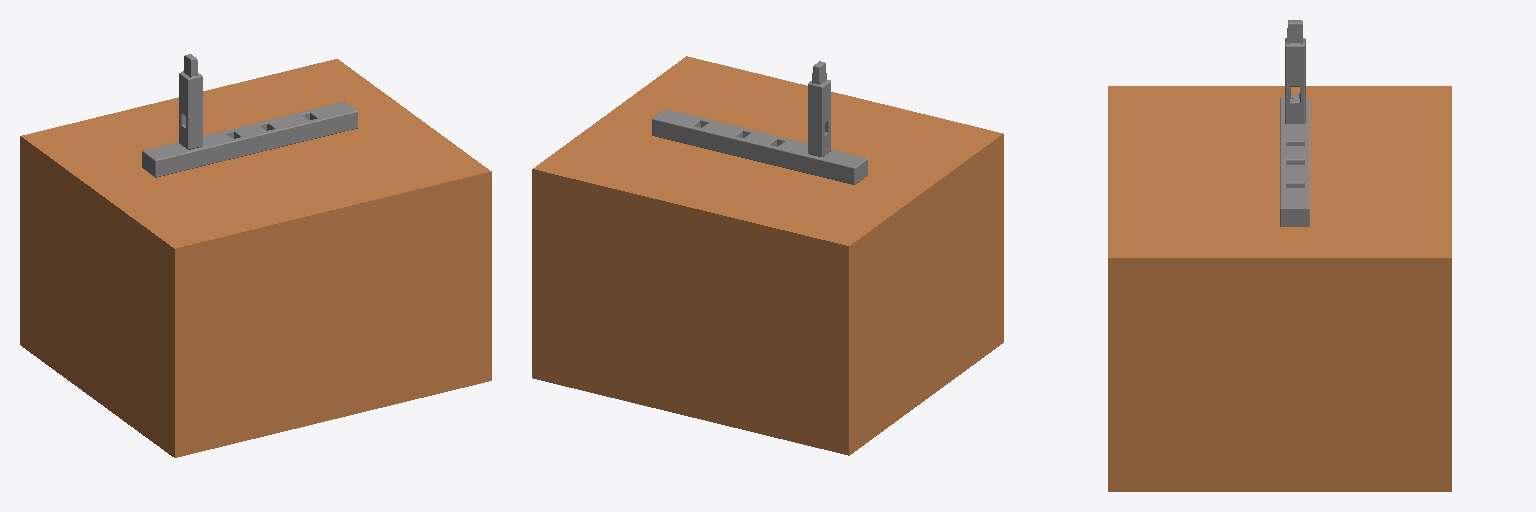
robot.urdf — table_beam_2x_0_scene_0016:
<?xml version="1.0"?>
<robot name="table_beam_2x_0_scene_0016">
  <link name="box">
    <visual>
      <material name="wood"><color rgba="0.82 0.56 0.35 1.0"/></material>
      <origin xyz="0 0 0"/>
      <geometry><box size="0.475 0.4 0.3"/></geometry>
    </visual>
    <collision>
      <origin xyz="0 0 0"/>
      <geometry><box size="0.475 0.4 0.3"/></geometry>
    </collision>
    <inertial>
      <mass value="500"/>
      <friction value="1.0"/>
      <inertia ixx="1000.0" ixy="0.0" ixz="0.0" iyy="1000.0" iyz="0.0" izz="1000.0"/>
    </inertial>
  </link>
  <link name="part_6_canonical">
    <visual>
      <origin xyz="0 0 0" rpy="0 0 0"/>
      <geometry><mesh filename="../../6/6_canonical.obj" scale="1 1 1"/></geometry>
      <material name="placed_0"><color rgba="0.6 0.6 0.6 1.0"/></material>
    </visual>
    <collision>
      <origin xyz="0 0 0" rpy="0 0 0"/>
      <geometry><mesh filename="../../6/6_canonical.obj" scale="1 1 1"/></geometry>
    </collision>
  </link>
  <joint name="part_6_canonical_joint" type="fixed">
    <parent link="box"/>
    <child link="part_6_canonical"/>
    <origin xyz="0.001633 0.017717 0.162666" rpy="0.000000 0.000000 0.000000"/>
  </joint>
  <link name="part_2_hull_0">
    <visual>
      <origin xyz="0 0 0" rpy="0 0 0"/>
      <geometry><mesh filename="../../2/coacd/decomp_0.obj" scale="1 1 1"/></geometry>
      <material name="placed_1"><color rgba="0.6 0.6 0.6 1.0"/></material>
    </visual>
    <collision>
      <origin xyz="0 0 0" rpy="0 0 0"/>
      <geometry><mesh filename="../../2/coacd/decomp_0.obj" scale="1 1 1"/></geometry>
    </collision>
  </link>
  <joint name="part_2_hull_0_joint" type="fixed">
    <parent link="box"/>
    <child link="part_2_hull_0"/>
    <origin xyz="-0.087294 0.017717 0.225384" rpy="0.000000 -1.570796 0.000000"/>
  </joint>
  <link name="part_2_hull_1">
    <visual>
      <origin xyz="0 0 0" rpy="0 0 0"/>
      <geometry><mesh filename="../../2/coacd/decomp_1.obj" scale="1 1 1"/></geometry>
      <material name="placed_2"><color rgba="0.6 0.6 0.6 1.0"/></material>
    </visual>
    <collision>
      <origin xyz="0 0 0" rpy="0 0 0"/>
      <geometry><mesh filename="../../2/coacd/decomp_1.obj" scale="1 1 1"/></geometry>
    </collision>
  </link>
  <joint name="part_2_hull_1_joint" type="fixed">
    <parent link="box"/>
    <child link="part_2_hull_1"/>
    <origin xyz="-0.087294 0.017717 0.225384" rpy="0.000000 -1.570796 0.000000"/>
  </joint>
  <link name="part_2_hull_2">
    <visual>
      <origin xyz="0 0 0" rpy="0 0 0"/>
      <geometry><mesh filename="../../2/coacd/decomp_10.obj" scale="1 1 1"/></geometry>
      <material name="placed_3"><color rgba="0.6 0.6 0.6 1.0"/></material>
    </visual>
    <collision>
      <origin xyz="0 0 0" rpy="0 0 0"/>
      <geometry><mesh filename="../../2/coacd/decomp_10.obj" scale="1 1 1"/></geometry>
    </collision>
  </link>
  <joint name="part_2_hull_2_joint" type="fixed">
    <parent link="box"/>
    <child link="part_2_hull_2"/>
    <origin xyz="-0.087294 0.017717 0.225384" rpy="0.000000 -1.570796 0.000000"/>
  </joint>
  <link name="part_2_hull_3">
    <visual>
      <origin xyz="0 0 0" rpy="0 0 0"/>
      <geometry><mesh filename="../../2/coacd/decomp_11.obj" scale="1 1 1"/></geometry>
      <material name="placed_4"><color rgba="0.6 0.6 0.6 1.0"/></material>
    </visual>
    <collision>
      <origin xyz="0 0 0" rpy="0 0 0"/>
      <geometry><mesh filename="../../2/coacd/decomp_11.obj" scale="1 1 1"/></geometry>
    </collision>
  </link>
  <joint name="part_2_hull_3_joint" type="fixed">
    <parent link="box"/>
    <child link="part_2_hull_3"/>
    <origin xyz="-0.087294 0.017717 0.225384" rpy="0.000000 -1.570796 0.000000"/>
  </joint>
  <link name="part_2_hull_4">
    <visual>
      <origin xyz="0 0 0" rpy="0 0 0"/>
      <geometry><mesh filename="../../2/coacd/decomp_12.obj" scale="1 1 1"/></geometry>
      <material name="placed_5"><color rgba="0.6 0.6 0.6 1.0"/></material>
    </visual>
    <collision>
      <origin xyz="0 0 0" rpy="0 0 0"/>
      <geometry><mesh filename="../../2/coacd/decomp_12.obj" scale="1 1 1"/></geometry>
    </collision>
  </link>
  <joint name="part_2_hull_4_joint" type="fixed">
    <parent link="box"/>
    <child link="part_2_hull_4"/>
    <origin xyz="-0.087294 0.017717 0.225384" rpy="0.000000 -1.570796 0.000000"/>
  </joint>
  <link name="part_2_hull_5">
    <visual>
      <origin xyz="0 0 0" rpy="0 0 0"/>
      <geometry><mesh filename="../../2/coacd/decomp_13.obj" scale="1 1 1"/></geometry>
      <material name="placed_6"><color rgba="0.6 0.6 0.6 1.0"/></material>
    </visual>
    <collision>
      <origin xyz="0 0 0" rpy="0 0 0"/>
      <geometry><mesh filename="../../2/coacd/decomp_13.obj" scale="1 1 1"/></geometry>
    </collision>
  </link>
  <joint name="part_2_hull_5_joint" type="fixed">
    <parent link="box"/>
    <child link="part_2_hull_5"/>
    <origin xyz="-0.087294 0.017717 0.225384" rpy="0.000000 -1.570796 0.000000"/>
  </joint>
  <link name="part_2_hull_6">
    <visual>
      <origin xyz="0 0 0" rpy="0 0 0"/>
      <geometry><mesh filename="../../2/coacd/decomp_14.obj" scale="1 1 1"/></geometry>
      <material name="placed_7"><color rgba="0.6 0.6 0.6 1.0"/></material>
    </visual>
    <collision>
      <origin xyz="0 0 0" rpy="0 0 0"/>
      <geometry><mesh filename="../../2/coacd/decomp_14.obj" scale="1 1 1"/></geometry>
    </collision>
  </link>
  <joint name="part_2_hull_6_joint" type="fixed">
    <parent link="box"/>
    <child link="part_2_hull_6"/>
    <origin xyz="-0.087294 0.017717 0.225384" rpy="0.000000 -1.570796 0.000000"/>
  </joint>
  <link name="part_2_hull_7">
    <visual>
      <origin xyz="0 0 0" rpy="0 0 0"/>
      <geometry><mesh filename="../../2/coacd/decomp_15.obj" scale="1 1 1"/></geometry>
      <material name="placed_8"><color rgba="0.6 0.6 0.6 1.0"/></material>
    </visual>
    <collision>
      <origin xyz="0 0 0" rpy="0 0 0"/>
      <geometry><mesh filename="../../2/coacd/decomp_15.obj" scale="1 1 1"/></geometry>
    </collision>
  </link>
  <joint name="part_2_hull_7_joint" type="fixed">
    <parent link="box"/>
    <child link="part_2_hull_7"/>
    <origin xyz="-0.087294 0.017717 0.225384" rpy="0.000000 -1.570796 0.000000"/>
  </joint>
  <link name="part_2_hull_8">
    <visual>
      <origin xyz="0 0 0" rpy="0 0 0"/>
      <geometry><mesh filename="../../2/coacd/decomp_2.obj" scale="1 1 1"/></geometry>
      <material name="placed_9"><color rgba="0.6 0.6 0.6 1.0"/></material>
    </visual>
    <collision>
      <origin xyz="0 0 0" rpy="0 0 0"/>
      <geometry><mesh filename="../../2/coacd/decomp_2.obj" scale="1 1 1"/></geometry>
    </collision>
  </link>
  <joint name="part_2_hull_8_joint" type="fixed">
    <parent link="box"/>
    <child link="part_2_hull_8"/>
    <origin xyz="-0.087294 0.017717 0.225384" rpy="0.000000 -1.570796 0.000000"/>
  </joint>
  <link name="part_2_hull_9">
    <visual>
      <origin xyz="0 0 0" rpy="0 0 0"/>
      <geometry><mesh filename="../../2/coacd/decomp_3.obj" scale="1 1 1"/></geometry>
      <material name="placed_10"><color rgba="0.6 0.6 0.6 1.0"/></material>
    </visual>
    <collision>
      <origin xyz="0 0 0" rpy="0 0 0"/>
      <geometry><mesh filename="../../2/coacd/decomp_3.obj" scale="1 1 1"/></geometry>
    </collision>
  </link>
  <joint name="part_2_hull_9_joint" type="fixed">
    <parent link="box"/>
    <child link="part_2_hull_9"/>
    <origin xyz="-0.087294 0.017717 0.225384" rpy="0.000000 -1.570796 0.000000"/>
  </joint>
  <link name="part_2_hull_10">
    <visual>
      <origin xyz="0 0 0" rpy="0 0 0"/>
      <geometry><mesh filename="../../2/coacd/decomp_4.obj" scale="1 1 1"/></geometry>
      <material name="placed_11"><color rgba="0.6 0.6 0.6 1.0"/></material>
    </visual>
    <collision>
      <origin xyz="0 0 0" rpy="0 0 0"/>
      <geometry><mesh filename="../../2/coacd/decomp_4.obj" scale="1 1 1"/></geometry>
    </collision>
  </link>
  <joint name="part_2_hull_10_joint" type="fixed">
    <parent link="box"/>
    <child link="part_2_hull_10"/>
    <origin xyz="-0.087294 0.017717 0.225384" rpy="0.000000 -1.570796 0.000000"/>
  </joint>
  <link name="part_2_hull_11">
    <visual>
      <origin xyz="0 0 0" rpy="0 0 0"/>
      <geometry><mesh filename="../../2/coacd/decomp_5.obj" scale="1 1 1"/></geometry>
      <material name="placed_12"><color rgba="0.6 0.6 0.6 1.0"/></material>
    </visual>
    <collision>
      <origin xyz="0 0 0" rpy="0 0 0"/>
      <geometry><mesh filename="../../2/coacd/decomp_5.obj" scale="1 1 1"/></geometry>
    </collision>
  </link>
  <joint name="part_2_hull_11_joint" type="fixed">
    <parent link="box"/>
    <child link="part_2_hull_11"/>
    <origin xyz="-0.087294 0.017717 0.225384" rpy="0.000000 -1.570796 0.000000"/>
  </joint>
  <link name="part_2_hull_12">
    <visual>
      <origin xyz="0 0 0" rpy="0 0 0"/>
      <geometry><mesh filename="../../2/coacd/decomp_6.obj" scale="1 1 1"/></geometry>
      <material name="placed_13"><color rgba="0.6 0.6 0.6 1.0"/></material>
    </visual>
    <collision>
      <origin xyz="0 0 0" rpy="0 0 0"/>
      <geometry><mesh filename="../../2/coacd/decomp_6.obj" scale="1 1 1"/></geometry>
    </collision>
  </link>
  <joint name="part_2_hull_12_joint" type="fixed">
    <parent link="box"/>
    <child link="part_2_hull_12"/>
    <origin xyz="-0.087294 0.017717 0.225384" rpy="0.000000 -1.570796 0.000000"/>
  </joint>
  <link name="part_2_hull_13">
    <visual>
      <origin xyz="0 0 0" rpy="0 0 0"/>
      <geometry><mesh filename="../../2/coacd/decomp_7.obj" scale="1 1 1"/></geometry>
      <material name="placed_14"><color rgba="0.6 0.6 0.6 1.0"/></material>
    </visual>
    <collision>
      <origin xyz="0 0 0" rpy="0 0 0"/>
      <geometry><mesh filename="../../2/coacd/decomp_7.obj" scale="1 1 1"/></geometry>
    </collision>
  </link>
  <joint name="part_2_hull_13_joint" type="fixed">
    <parent link="box"/>
    <child link="part_2_hull_13"/>
    <origin xyz="-0.087294 0.017717 0.225384" rpy="0.000000 -1.570796 0.000000"/>
  </joint>
  <link name="part_2_hull_14">
    <visual>
      <origin xyz="0 0 0" rpy="0 0 0"/>
      <geometry><mesh filename="../../2/coacd/decomp_8.obj" scale="1 1 1"/></geometry>
      <material name="placed_15"><color rgba="0.6 0.6 0.6 1.0"/></material>
    </visual>
    <collision>
      <origin xyz="0 0 0" rpy="0 0 0"/>
      <geometry><mesh filename="../../2/coacd/decomp_8.obj" scale="1 1 1"/></geometry>
    </collision>
  </link>
  <joint name="part_2_hull_14_joint" type="fixed">
    <parent link="box"/>
    <child link="part_2_hull_14"/>
    <origin xyz="-0.087294 0.017717 0.225384" rpy="0.000000 -1.570796 0.000000"/>
  </joint>
  <link name="part_2_hull_15">
    <visual>
      <origin xyz="0 0 0" rpy="0 0 0"/>
      <geometry><mesh filename="../../2/coacd/decomp_9.obj" scale="1 1 1"/></geometry>
      <material name="placed_16"><color rgba="0.6 0.6 0.6 1.0"/></material>
    </visual>
    <collision>
      <origin xyz="0 0 0" rpy="0 0 0"/>
      <geometry><mesh filename="../../2/coacd/decomp_9.obj" scale="1 1 1"/></geometry>
    </collision>
  </link>
  <joint name="part_2_hull_15_joint" type="fixed">
    <parent link="box"/>
    <child link="part_2_hull_15"/>
    <origin xyz="-0.087294 0.017717 0.225384" rpy="0.000000 -1.570796 0.000000"/>
  </joint>
</robot>

--- Facts derived from the render (not from the file) ---
The picture shows the robot from 3 angles, left to right: view 1: azimuth 30°, elevation 25°; view 2: azimuth 150°, elevation 25°; view 3: azimuth 270°, elevation 25°; orthographic projection.
Model table_beam_2x_0_scene_0016 with 18 links and 17 joints (17 fixed), rooted at box, posed all joints at 0.
Links seen in each view (by area): view 1: box, part_6_canonical, part_2_hull_1; view 2: box, part_6_canonical; view 3: box, part_6_canonical.
Boxes of the visible links, box(x1,y1,x2,y2) form: box: box(20, 59, 491, 457); part_6_canonical: box(142, 101, 357, 177); part_2_hull_1: box(179, 72, 191, 116); box: box(532, 56, 1003, 455); part_6_canonical: box(652, 109, 867, 184); box: box(1108, 86, 1451, 491); part_6_canonical: box(1280, 98, 1309, 226).
Size in the robot's own frame: 0.475 by 0.4 by 0.4524 metres.
Meshes: 17 distinct files referenced, 17 mesh visuals loaded (17 OBJ).
